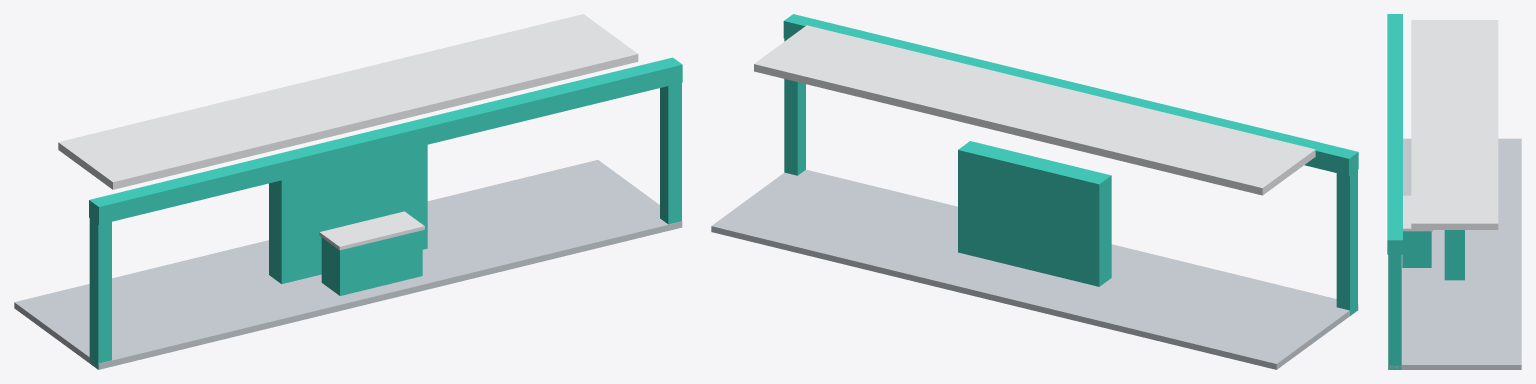
The picture shows the model from 3 angles, left to right: view 1: azimuth 30°, elevation 25°; view 2: azimuth 150°, elevation 25°; view 3: azimuth 270°, elevation 25°; orthographic projection. The views are drawn at different scales.
Visible parts, largest first — view 1: Exhibition Booth Concept; view 2: Exhibition Booth Concept; view 3: Exhibition Booth Concept.
Boxes of the visible parts, x1,y1,x2,y2 form: Exhibition Booth Concept: [14, 14, 682, 369]; Exhibition Booth Concept: [711, 14, 1358, 369]; Exhibition Booth Concept: [1387, 14, 1521, 369].
Size of the model in its own units: 12 by 3.34 by 3.01.
